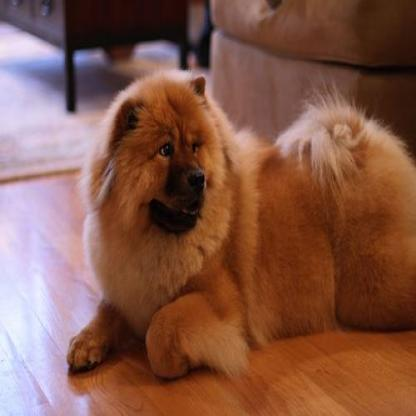chow: (63, 65, 414, 382)
